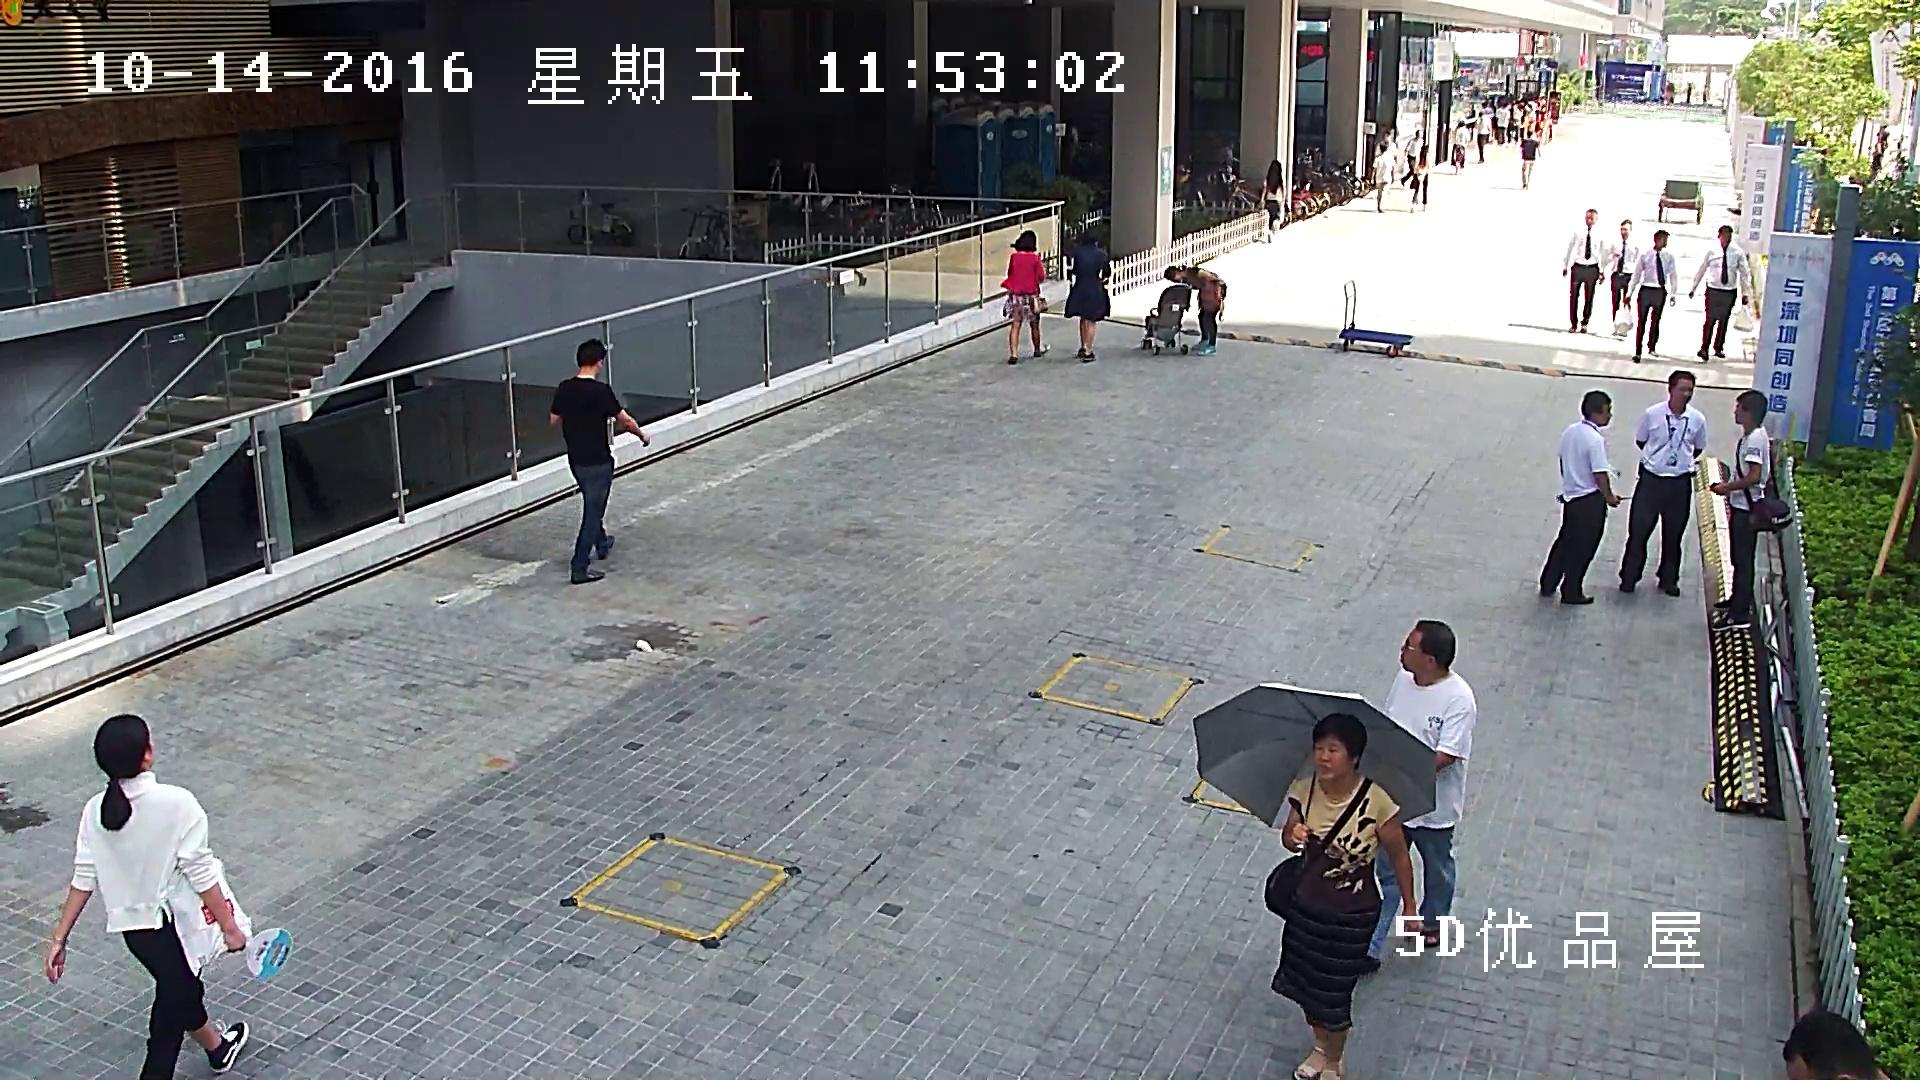person: (1192, 682, 1434, 1080), (47, 713, 292, 1080), (1266, 712, 1425, 1080), (1359, 621, 1477, 970), (548, 339, 651, 582), (1619, 370, 1706, 597), (1710, 390, 1792, 630), (1538, 389, 1619, 606), (1613, 229, 1677, 362), (1688, 225, 1748, 360), (1142, 264, 1226, 355), (1624, 229, 1677, 362), (999, 230, 1048, 364), (1064, 231, 1110, 361), (1162, 265, 1226, 355), (1563, 208, 1604, 333), (1606, 219, 1639, 337), (1261, 160, 1285, 244), (1370, 143, 1392, 212), (1409, 144, 1429, 212), (1400, 129, 1422, 188), (1520, 131, 1540, 189), (1451, 120, 1468, 174), (1478, 102, 1495, 142), (1872, 125, 1889, 169), (1520, 103, 1537, 138), (1476, 112, 1488, 162), (1376, 130, 1396, 157), (1495, 103, 1507, 143), (1539, 111, 1552, 144), (1507, 102, 1518, 142)
